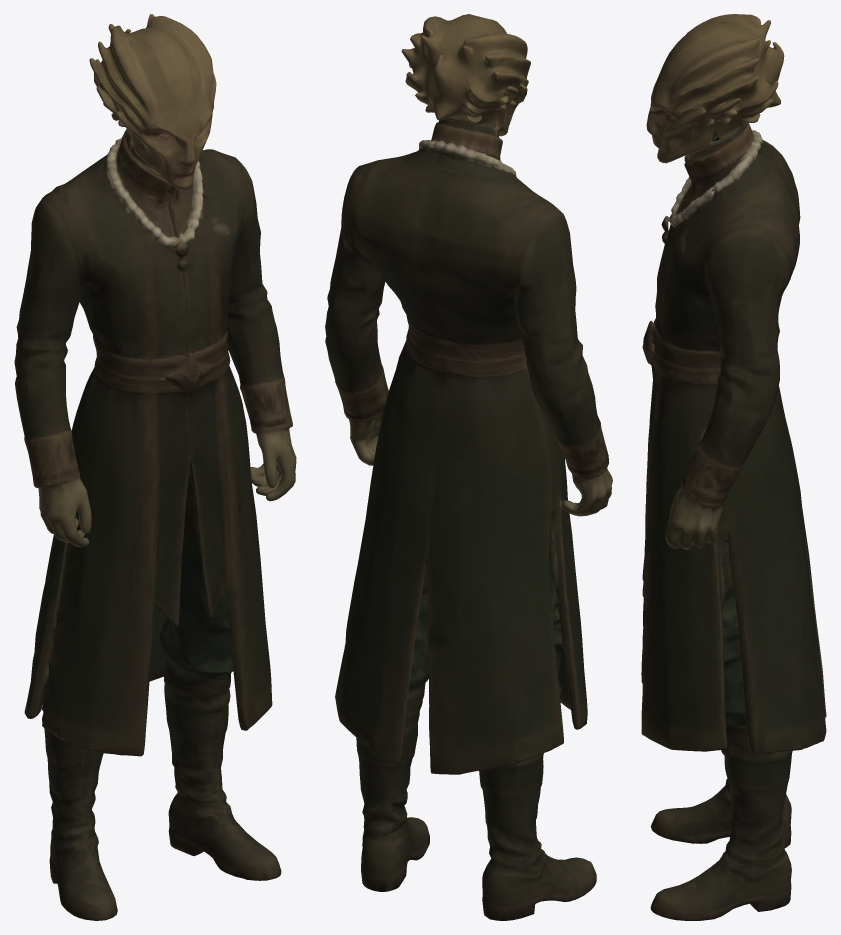
Rendered from figur.glb.
3 views of the same model, side by side, from view 1: azimuth 30°, elevation 25°; view 2: azimuth 150°, elevation 25°; view 3: azimuth 270°, elevation 25° (orthographic). The views are drawn at different scales.
Parts seen in each view (by area): view 1: figur; view 2: figur; view 3: figur.
Part boxes in pixels (<box>): figur: <box>14,14,296,920</box>; figur: <box>325,14,612,920</box>; figur: <box>641,14,826,920</box>.
Size of the model in its own units: 0.314 by 0.9934 by 0.1971.
Materials: 1 (1 with a texture image).
